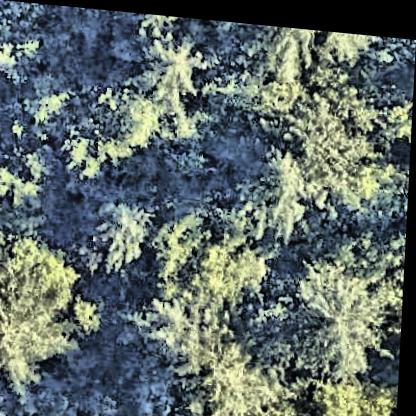tree-top: (0, 227, 104, 387), (142, 205, 278, 305), (281, 258, 387, 374), (142, 283, 237, 376), (293, 94, 373, 200), (192, 329, 285, 416), (135, 25, 218, 111), (241, 149, 314, 231), (84, 195, 157, 266), (102, 83, 168, 161), (237, 18, 312, 84), (297, 369, 401, 416), (323, 25, 374, 63)
